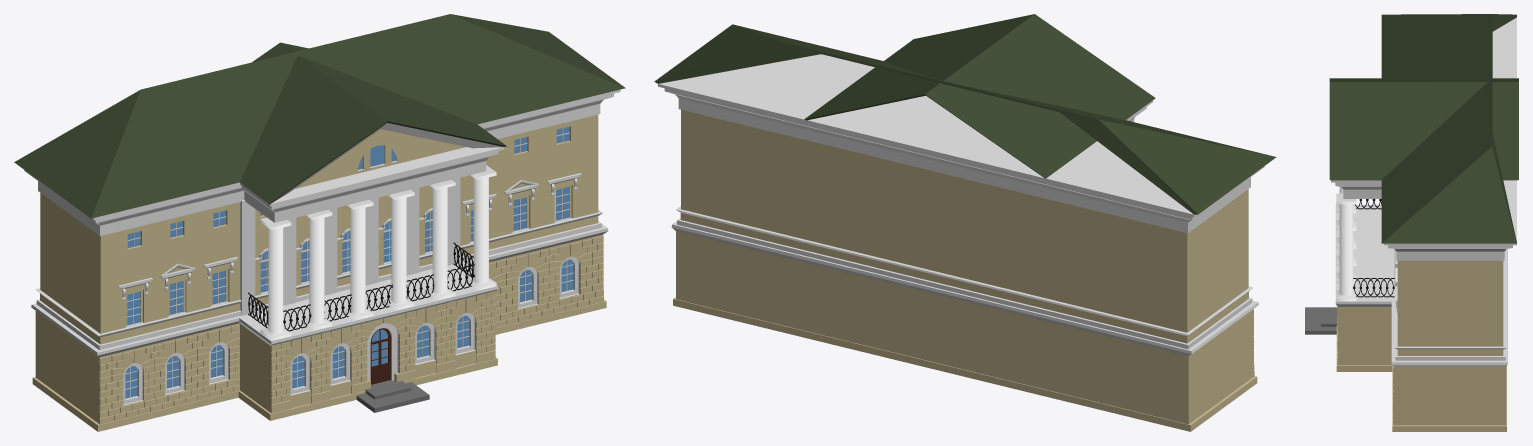
The model's file is whiteHouse (1).fbx.
3 renders of one model, left to right at view 1: azimuth 30°, elevation 25°; view 2: azimuth 150°, elevation 25°; view 3: azimuth 270°, elevation 25°, orthographic. The views are drawn at different scales.
Parts seen in each view (by area): view 1: Cube, Cube.007, Cube.008, Cube.001, Cube.057, Cube.012, Circle.010, Cube.006, Cube.047; view 2: Cube, Cube.007; view 3: Cube.007, Cube, Cube.001, Cube.006, Circle.012.
Part boxes in pixels (x1,y1,x2,y2): Cube: (24, 89, 620, 431); Cube.007: (14, 14, 625, 218); Cube.008: (99, 236, 603, 424); Cube.001: (260, 165, 496, 340); Cube.057: (240, 178, 460, 315); Cube.012: (118, 173, 581, 301); Circle.010: (283, 264, 474, 331); Cube.006: (356, 380, 429, 412); Cube.047: (127, 126, 569, 247); Cube: (658, 54, 1264, 431); Cube.007: (654, 14, 1276, 214); Cube.007: (1329, 14, 1518, 243); Cube: (1331, 17, 1516, 431); Cube.001: (1336, 186, 1356, 301); Cube.006: (1305, 307, 1337, 334); Circle.012: (1353, 278, 1394, 297).
Bounding box in the file's own units: 964 × 477 × 380.
